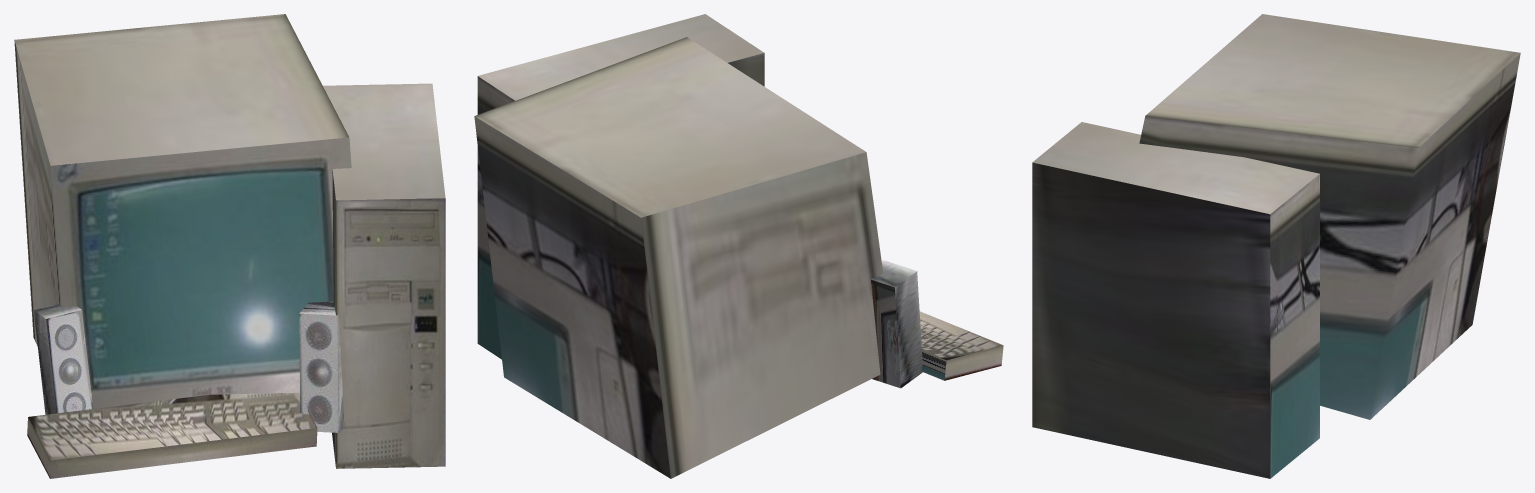
The picture shows the model from 3 angles, left to right: view 1: azimuth 30°, elevation 25°; view 2: azimuth 150°, elevation 25°; view 3: azimuth 270°, elevation 25°; orthographic projection.
Parts seen in each view (by area): view 1: Cube.009, Cube.010, Cube.011, Cube.020, Cube.019; view 2: Cube.009, Cube.010, Cube.020, Cube.011; view 3: Cube.010, Cube.009.
Part boxes in pixels (x1,y1,x2,y2): Cube.009: [14, 14, 351, 408]; Cube.010: [323, 83, 445, 468]; Cube.011: [27, 392, 317, 478]; Cube.020: [33, 303, 93, 414]; Cube.019: [299, 301, 344, 432]; Cube.009: [474, 37, 883, 478]; Cube.010: [477, 14, 764, 359]; Cube.020: [871, 260, 922, 388]; Cube.011: [919, 311, 1003, 380]; Cube.010: [1032, 122, 1319, 478]; Cube.009: [1139, 14, 1520, 419].
Bounding box in the file's own units: 2.56 × 1.62 × 2.42.
Materials: 7 (7 with a texture image).
